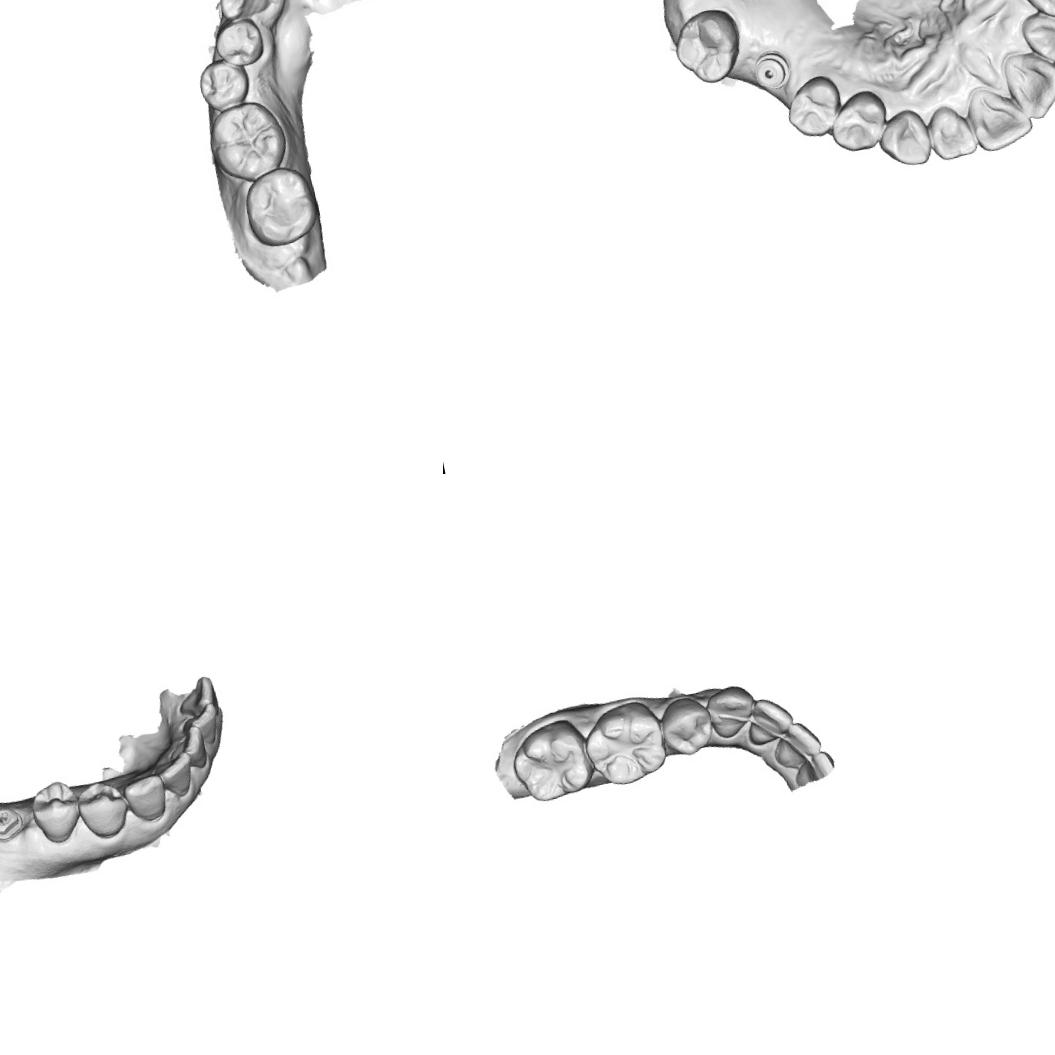canine: (872, 106, 934, 171), (701, 680, 760, 743), (120, 772, 170, 825), (212, 0, 272, 23), (1017, 0, 1055, 23)
implant: (748, 47, 794, 94)
implant_minus: (0, 801, 26, 844)
incisor: (960, 76, 1036, 156), (999, 43, 1055, 124), (922, 98, 980, 164), (741, 691, 799, 748), (768, 718, 825, 770), (1017, 3, 1055, 68), (164, 722, 210, 774), (154, 750, 198, 801), (178, 701, 224, 749), (172, 673, 218, 716)
molar: (577, 694, 672, 792), (502, 713, 596, 808), (202, 94, 294, 188), (237, 162, 322, 252), (666, 4, 746, 91)
premolar: (778, 71, 847, 142), (824, 86, 893, 156), (656, 690, 718, 762), (26, 776, 86, 846), (72, 776, 132, 842), (192, 54, 253, 114), (208, 14, 268, 70)
